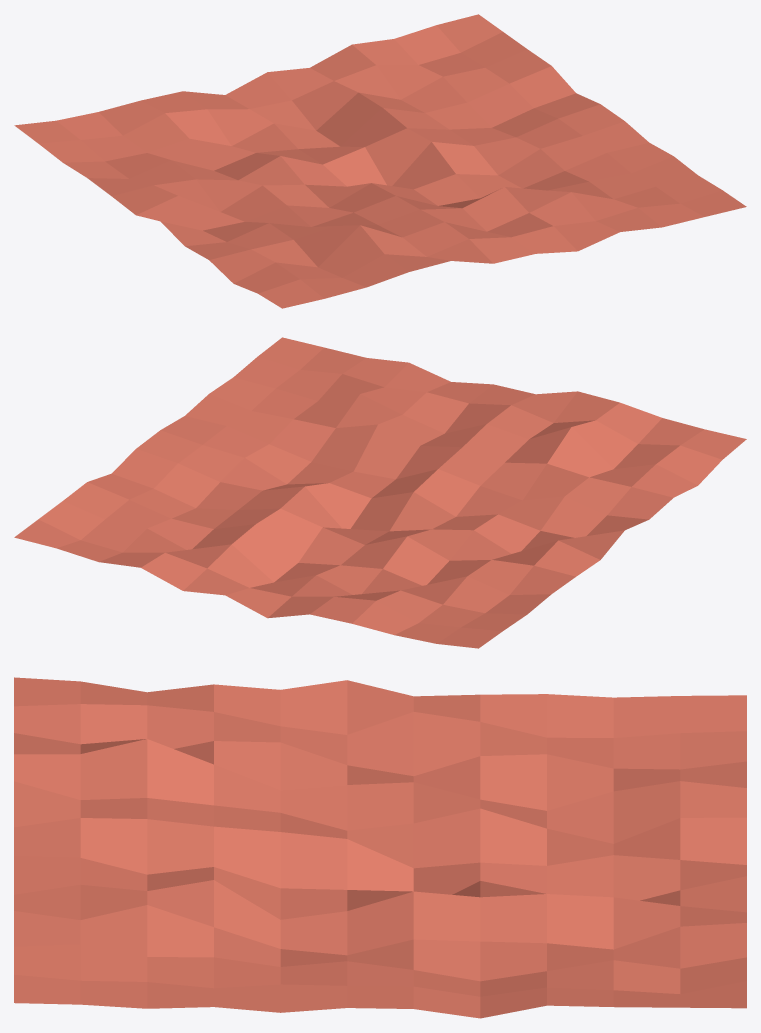
The model's file is background.glb.
The picture shows the model from 3 angles, top to bottom: view 1: azimuth 30°, elevation 25°; view 2: azimuth 150°, elevation 25°; view 3: azimuth 270°, elevation 25°; orthographic projection. The views are drawn at different scales.
Parts seen in each view (by area): view 1: Plane; view 2: Plane; view 3: Plane.
Part boxes in pixels (left/top/right/bottom): Plane: left=14, top=14, right=746, bottom=308; Plane: left=14, top=337, right=746, bottom=648; Plane: left=14, top=677, right=746, bottom=1018.
Bounding box in the file's own units: 2 × 0.2728 × 2.
